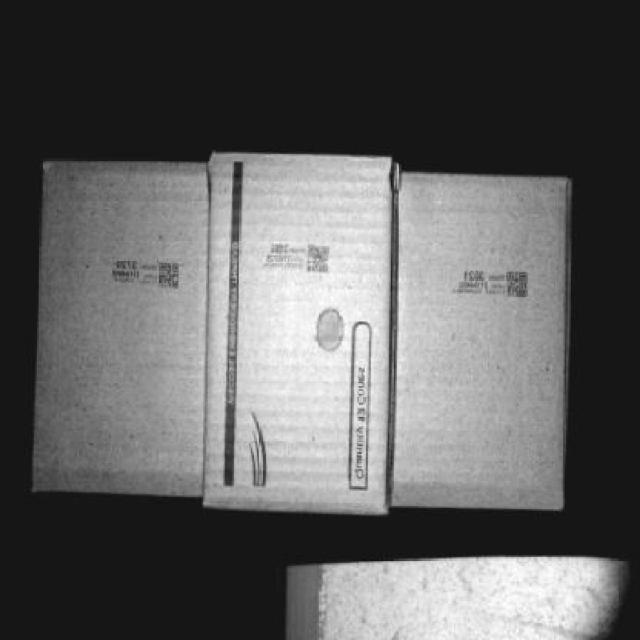cardboxes: (200, 150, 394, 502), (390, 177, 568, 508), (30, 159, 205, 492)
